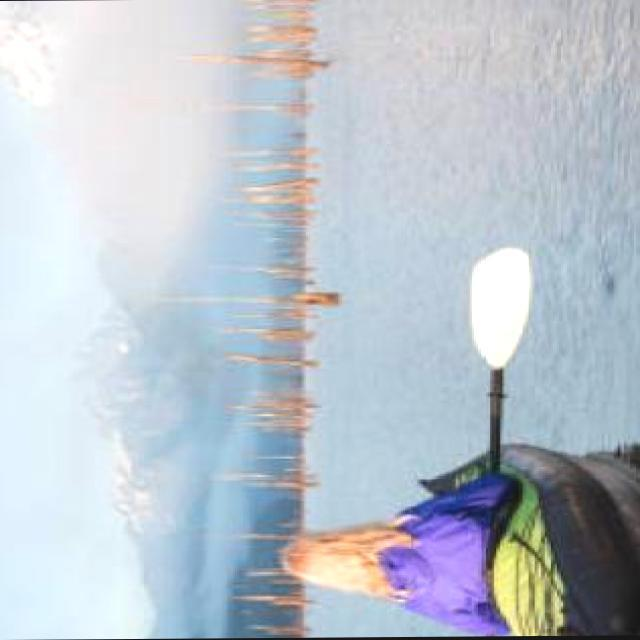kayak: (421, 444, 640, 637)
